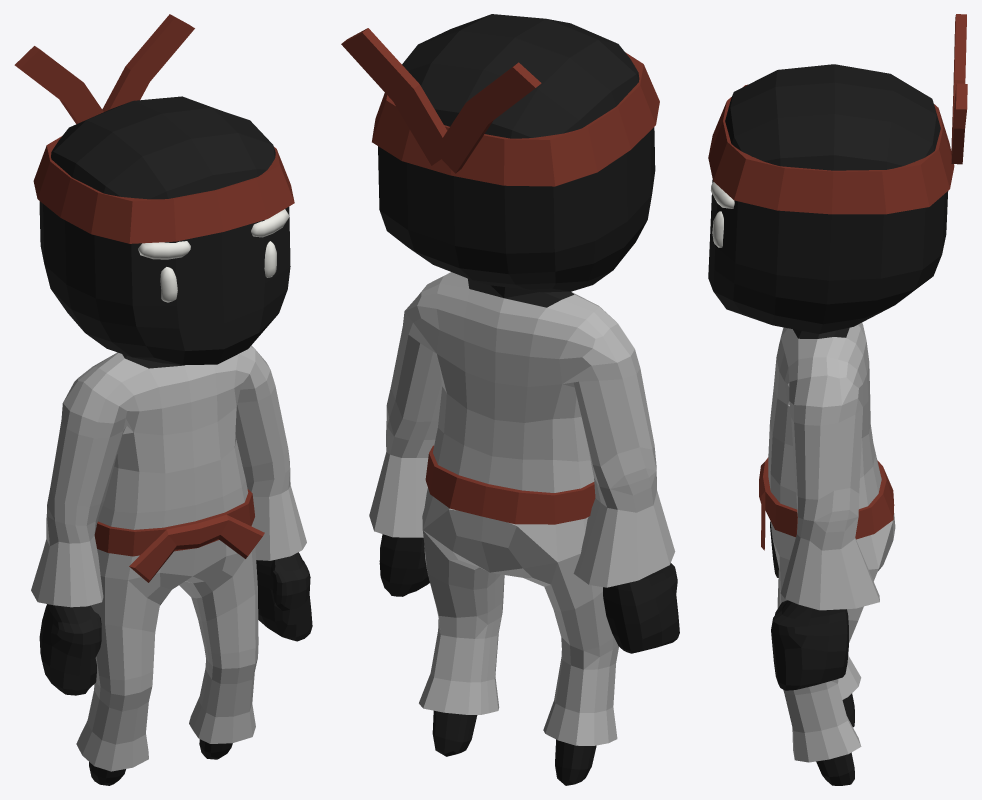
Rendered from kimono-male-81be0fc694.glb.
3 renders of one model, left to right at view 1: azimuth 30°, elevation 25°; view 2: azimuth 150°, elevation 25°; view 3: azimuth 270°, elevation 25°, orthographic. The views are drawn at different scales.
Visible parts, largest first — view 1: Kimono_Male.obj; view 2: Kimono_Male.obj; view 3: Kimono_Male.obj.
Part boxes in pixels (<box>): Kimono_Male.obj: <box>14,14,312,785</box>; Kimono_Male.obj: <box>341,14,679,785</box>; Kimono_Male.obj: <box>708,14,967,785</box>.
Size of the model in its own units: 1.31 by 3.27 by 1.08.
